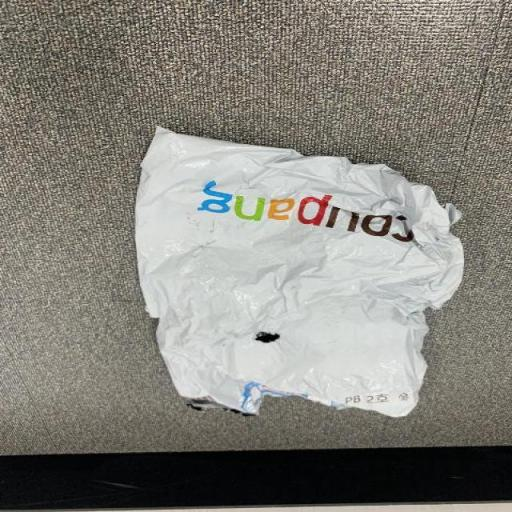plastic-bag: (129, 124, 468, 422)
